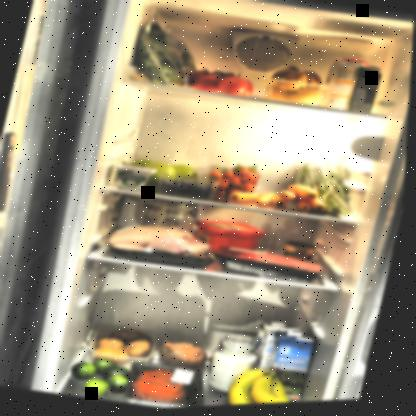apple: (130, 152, 206, 194)
banana: (224, 360, 323, 407)
beef: (134, 363, 197, 409)
blueberries: (161, 172, 223, 205)
butter: (191, 216, 269, 265)
carrot: (273, 180, 337, 222), (228, 187, 276, 212)
chicken: (105, 211, 231, 280)
corn: (283, 238, 323, 274)
green_beans: (283, 150, 365, 228)
ground_beef: (222, 245, 328, 289)
heavy_cream: (346, 67, 383, 119)
lime: (68, 350, 140, 404)
milk: (264, 330, 325, 405), (250, 320, 305, 391)
onion: (268, 62, 332, 111)
potato: (95, 322, 164, 369)
spinach: (124, 4, 217, 96)
strawberries: (204, 162, 265, 203)
sweet_potato: (154, 333, 221, 377)
tomato: (184, 64, 260, 104)
